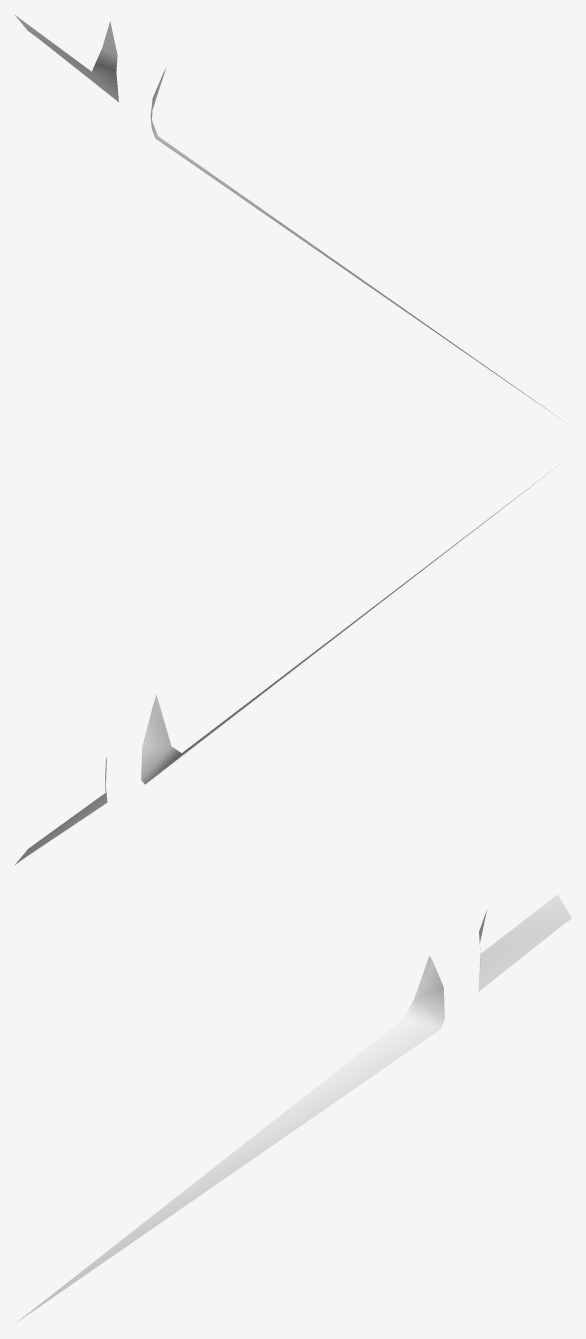
3 renders of one model, top to bottom at view 1: azimuth 30°, elevation 25°; view 2: azimuth 150°, elevation 25°; view 3: azimuth 330°, elevation 25°, orthographic. The views are drawn at different scales.
Bounding box in the file's own units: 0.0163 × 0.0792 × 0.9239.
Materials: 1 (1 with a texture image).
